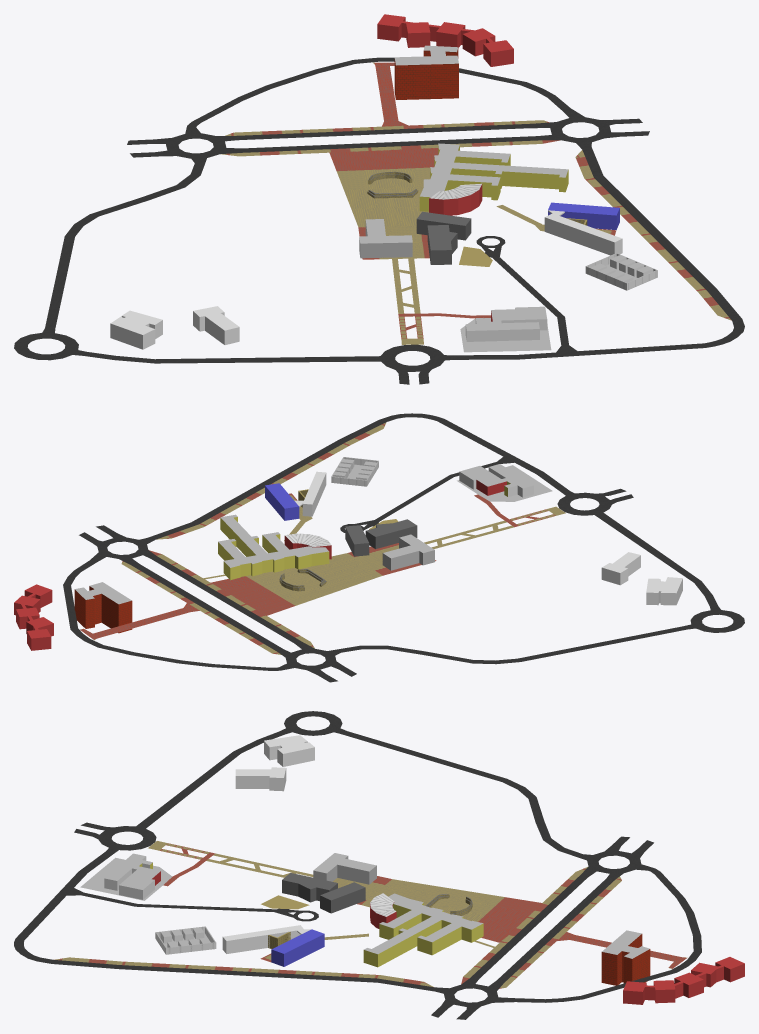
File: Campus2.fbx
3 renders of one model, top to bottom at view 1: azimuth 30°, elevation 25°; view 2: azimuth 150°, elevation 25°; view 3: azimuth 270°, elevation 25°, orthographic. The views are drawn at different scales.
Visible parts, largest first — view 1: Ruas, EngAmbiental, AquelaCalcadona, BlocoDidatico, Calçada, EngComp, Biblioteca, ????, Bandejao; view 2: Ruas, AquelaCalcadona, BlocoDidatico, EngAmbiental, Calçada, Biblioteca, EngComp, ????, Bandejao; view 3: Ruas, BlocoDidatico, EngAmbiental, AquelaCalcadona, EngComp, Calçada, Biblioteca, ????, Bandejao.
Boxes of the visible parts, x1,y1,x2,y2 form: Ruas: [14, 57, 744, 384]; EngAmbiental: [377, 14, 513, 99]; AquelaCalcadona: [329, 148, 438, 227]; BlocoDidatico: [419, 143, 568, 215]; Calçada: [358, 62, 616, 352]; EngComp: [544, 202, 657, 290]; Biblioteca: [359, 211, 471, 264]; ????: [110, 306, 239, 349]; Bandejao: [465, 306, 547, 341]; Ruas: [63, 413, 744, 682]; AquelaCalcadona: [210, 553, 382, 615]; BlocoDidatico: [218, 514, 331, 580]; EngAmbiental: [14, 582, 132, 650]; Calçada: [80, 465, 565, 640]; Biblioteca: [345, 519, 434, 570]; EngComp: [265, 457, 378, 520]; ????: [601, 552, 682, 605]; Bandejao: [459, 464, 533, 497]; Ruas: [14, 711, 701, 1019]; BlocoDidatico: [363, 893, 483, 967]; EngAmbiental: [601, 930, 744, 1004]; AquelaCalcadona: [361, 879, 542, 942]; EngComp: [155, 925, 324, 966]; Calçada: [80, 841, 687, 968]; Biblioteca: [282, 853, 376, 913]; ????: [235, 735, 314, 791]; Bandejao: [104, 853, 160, 899].
Bounding box in the file's own units: 50589 × 2371 × 50608.
